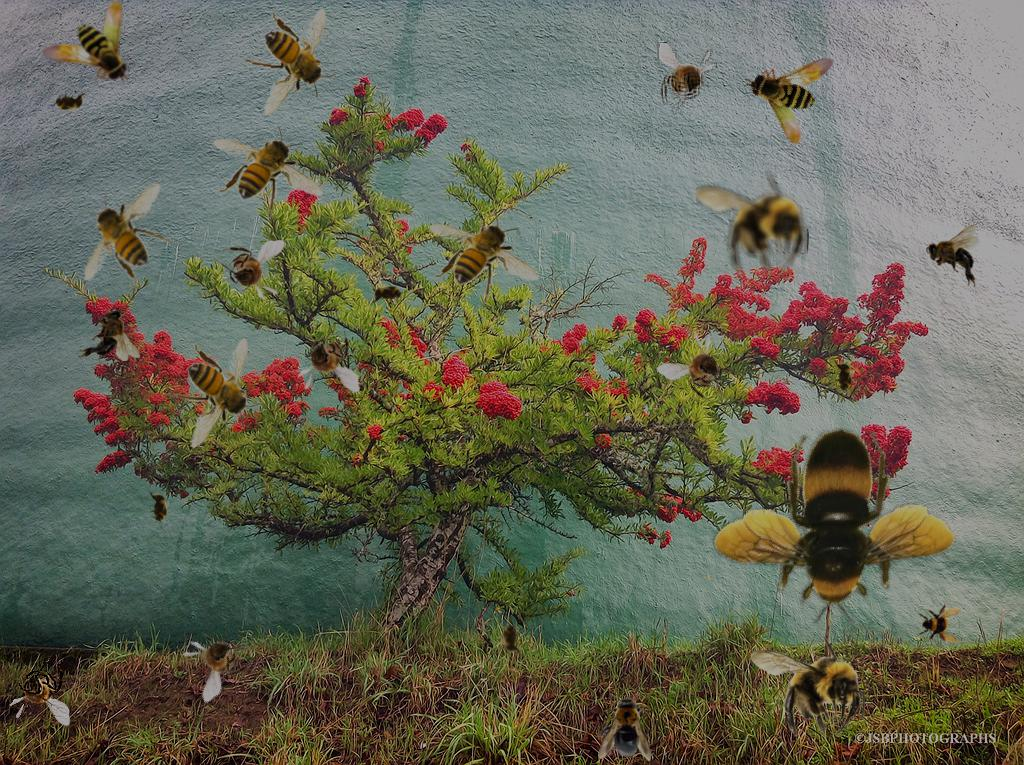Bee: (686, 394, 970, 665), (68, 168, 185, 298), (742, 33, 862, 151), (750, 631, 865, 738), (694, 168, 809, 275), (240, 4, 341, 120), (429, 210, 540, 304), (168, 338, 262, 449), (213, 125, 324, 219), (655, 322, 748, 414), (172, 614, 265, 704), (41, 1, 129, 83), (293, 322, 360, 398), (654, 40, 719, 114), (215, 240, 285, 301), (9, 656, 70, 726), (599, 693, 651, 761), (78, 308, 140, 361), (926, 225, 979, 287), (917, 601, 961, 645), (148, 488, 170, 528), (500, 618, 522, 658), (49, 91, 89, 113), (368, 283, 408, 305), (833, 357, 855, 397)
